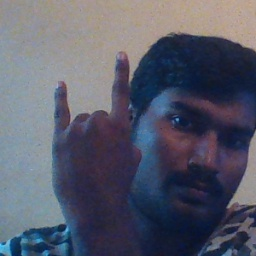V: (45, 45, 145, 214)
